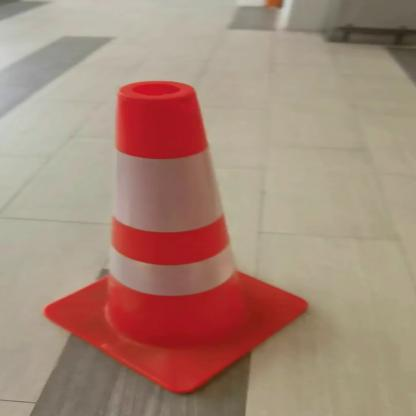cone: (40, 75, 319, 398)
